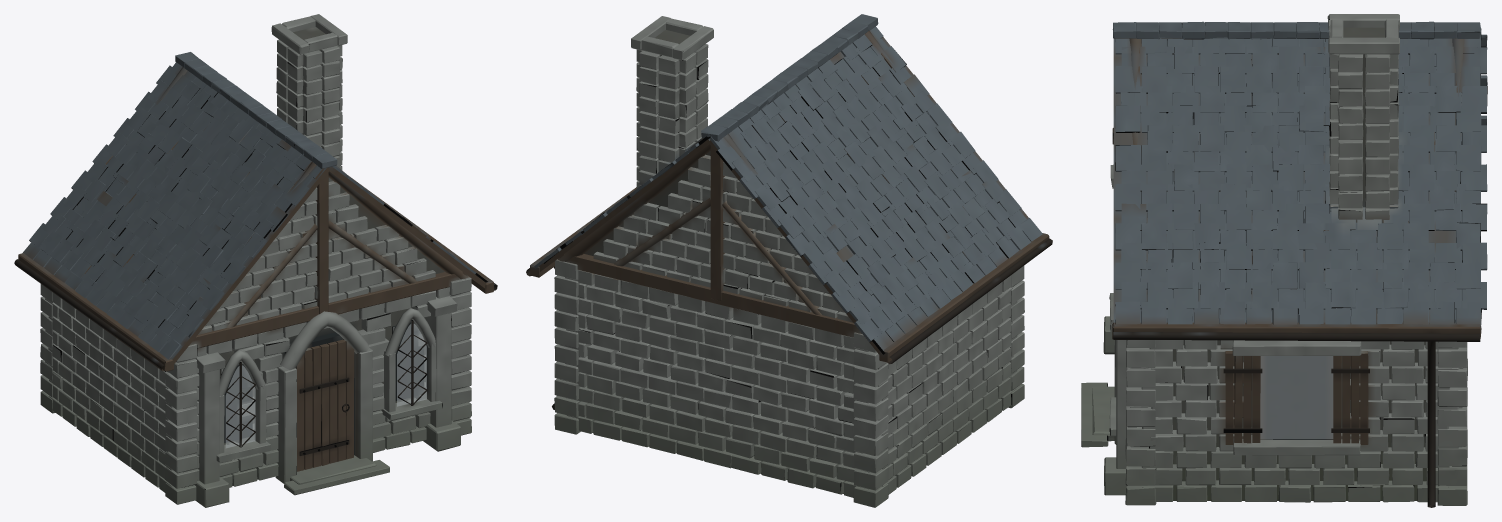
The model's file is gothic-cottage-v03.glb.
3 renders of one model, left to right at view 1: azimuth 30°, elevation 25°; view 2: azimuth 150°, elevation 25°; view 3: azimuth 270°, elevation 25°, orthographic. The views are drawn at different scales.
Parts seen in each view (by area): view 1: GothicCottage_LOD0, GothicCottage_Glass; view 2: GothicCottage_LOD0; view 3: GothicCottage_LOD0, GothicCottage_Glass.
Part boxes in pixels (x1,y1,x2,y2): GothicCottage_LOD0: (14, 14, 497, 507); GothicCottage_Glass: (225, 324, 426, 448); GothicCottage_LOD0: (526, 14, 1052, 507); GothicCottage_LOD0: (1081, 14, 1487, 507); GothicCottage_Glass: (1260, 356, 1333, 439).
Size of what is drawn, in the model's own units: 6.48 by 6.48 by 5.43.
Materials: 2 (1 with a texture image).
